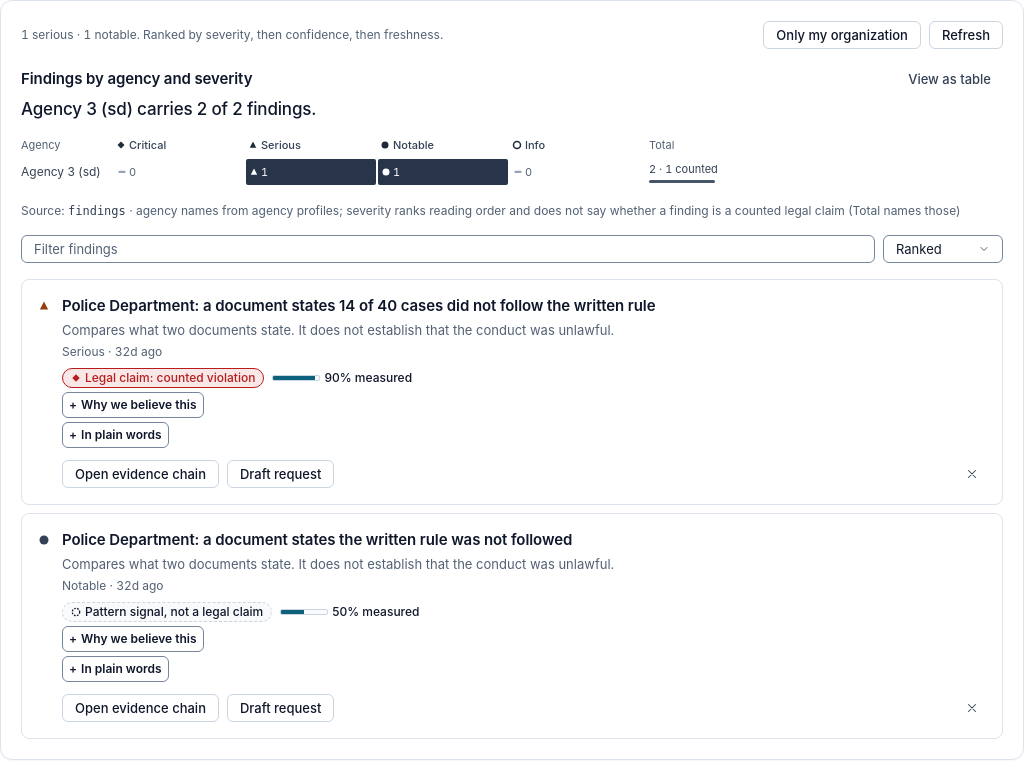
Test: practice departure findings in the inbox › shows both citations, and labels only the counted kind as a counted violation
The width and height of the screenshot is (1024, 762).
Check: the text "did not follow the written rule" is shown, box [62,296,655,315]
Check: the text "Legal claim: counted violation" is shown once, box [62,368,264,388]
Click the button named "why we believe this: police department: a document states 14 of 40": click(133, 405) [62,392,204,418]
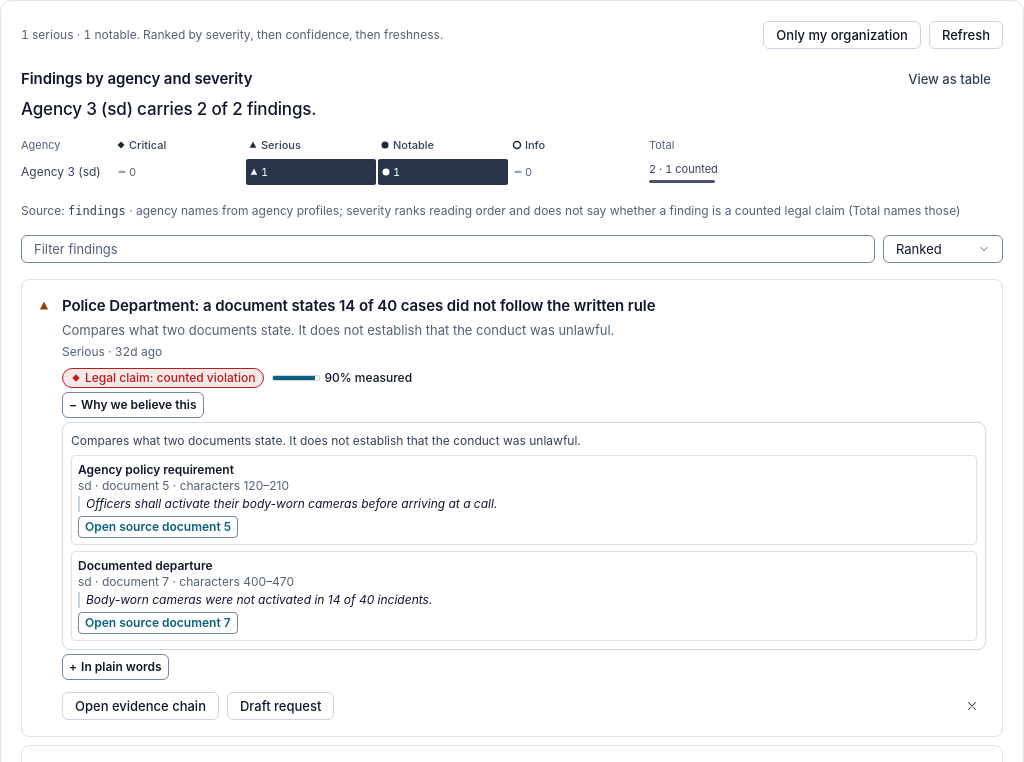
Check: the text "Agency policy requirement" is shown, box [78,462,234,476]
Check: the text "Documented departure" is shown, box [78,558,212,572]
Check: the text "shall activate their body-worn cameras" is shown, box [86,496,497,510]
